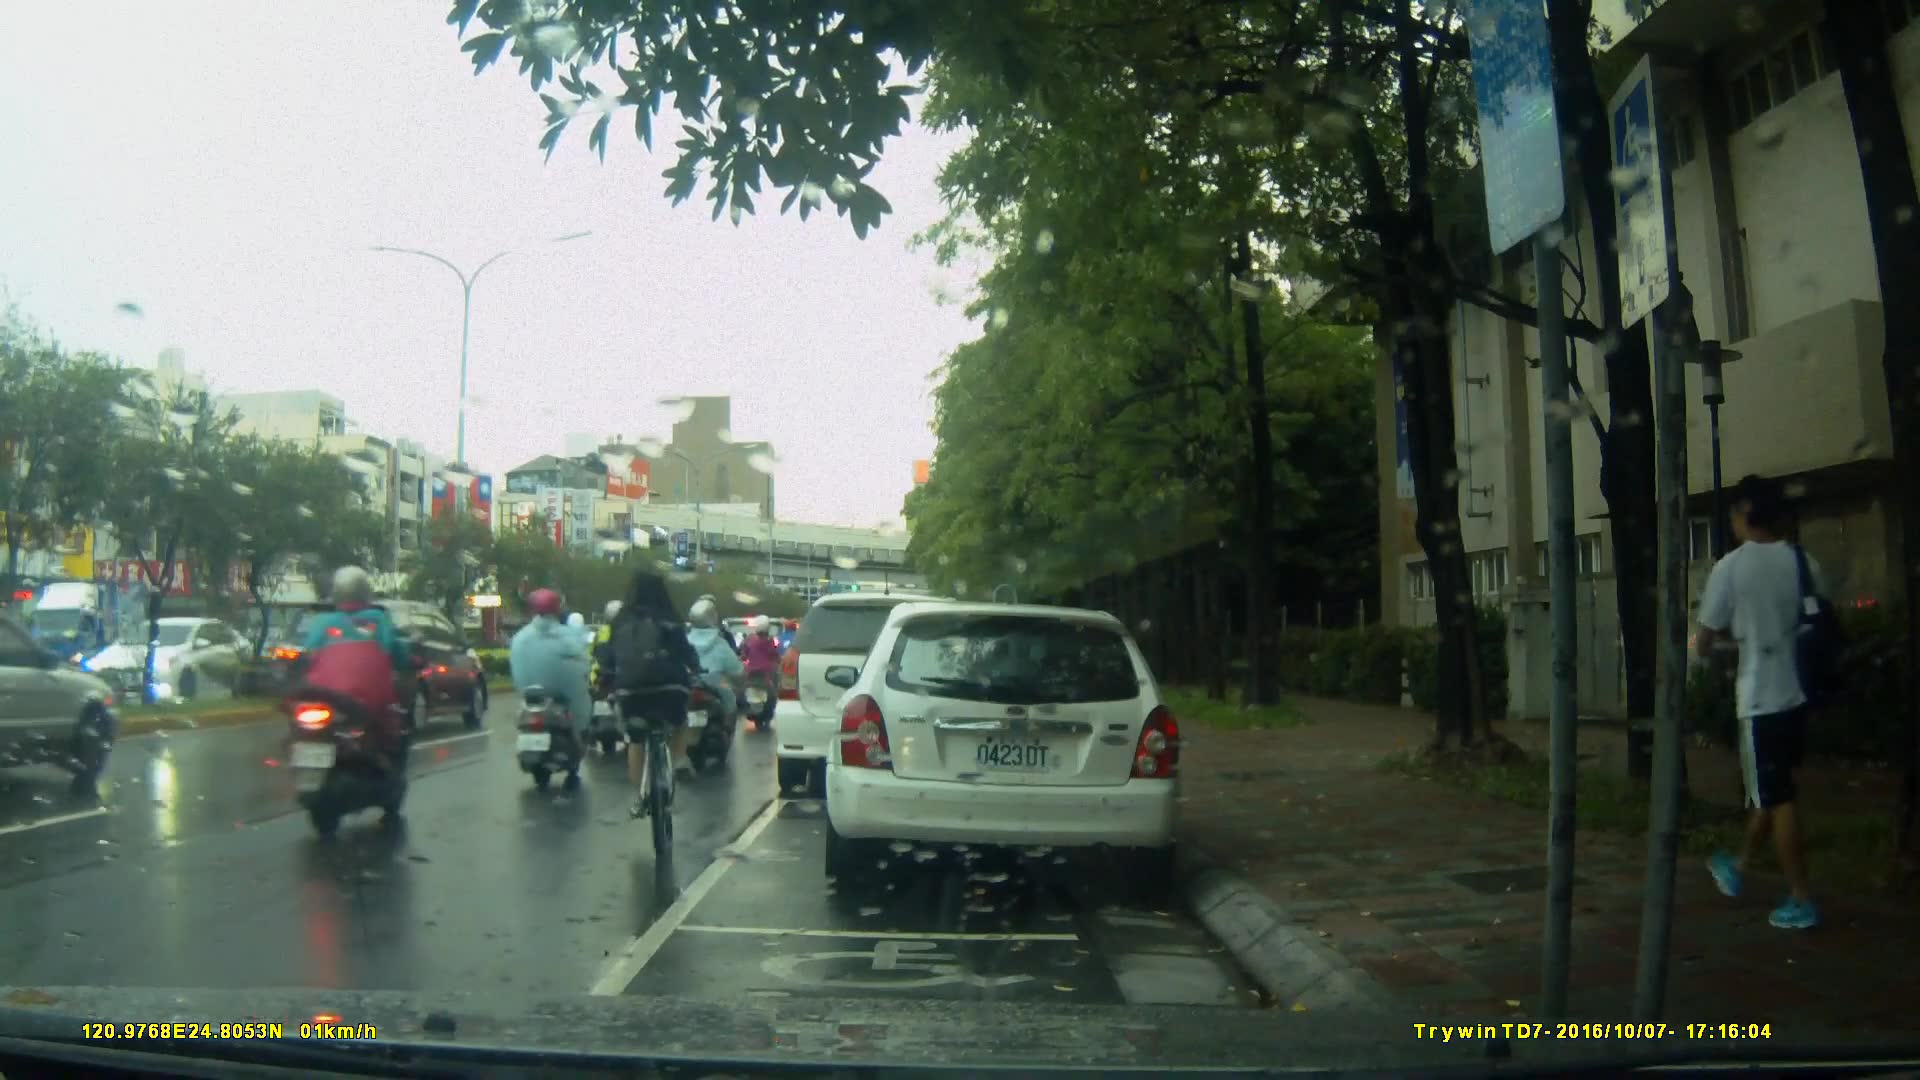pedestrian: (1703, 474, 1871, 953)
rider: (280, 569, 412, 839), (610, 560, 704, 849), (503, 589, 601, 794), (670, 597, 738, 756), (585, 599, 648, 760), (680, 593, 743, 750), (554, 612, 614, 733), (740, 621, 788, 733), (767, 614, 812, 689)
vehicle: (822, 604, 1188, 883), (774, 595, 995, 802), (266, 597, 492, 738), (20, 576, 161, 697), (90, 614, 275, 703)
